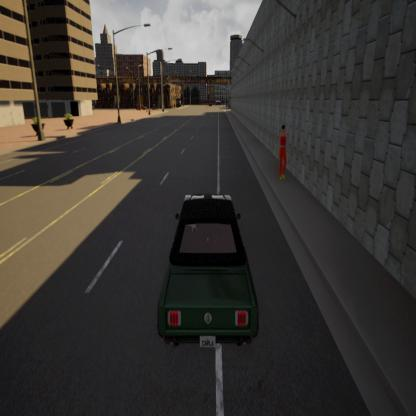Cars: (151, 178, 263, 357)
Pedestrian: (271, 119, 292, 190)
